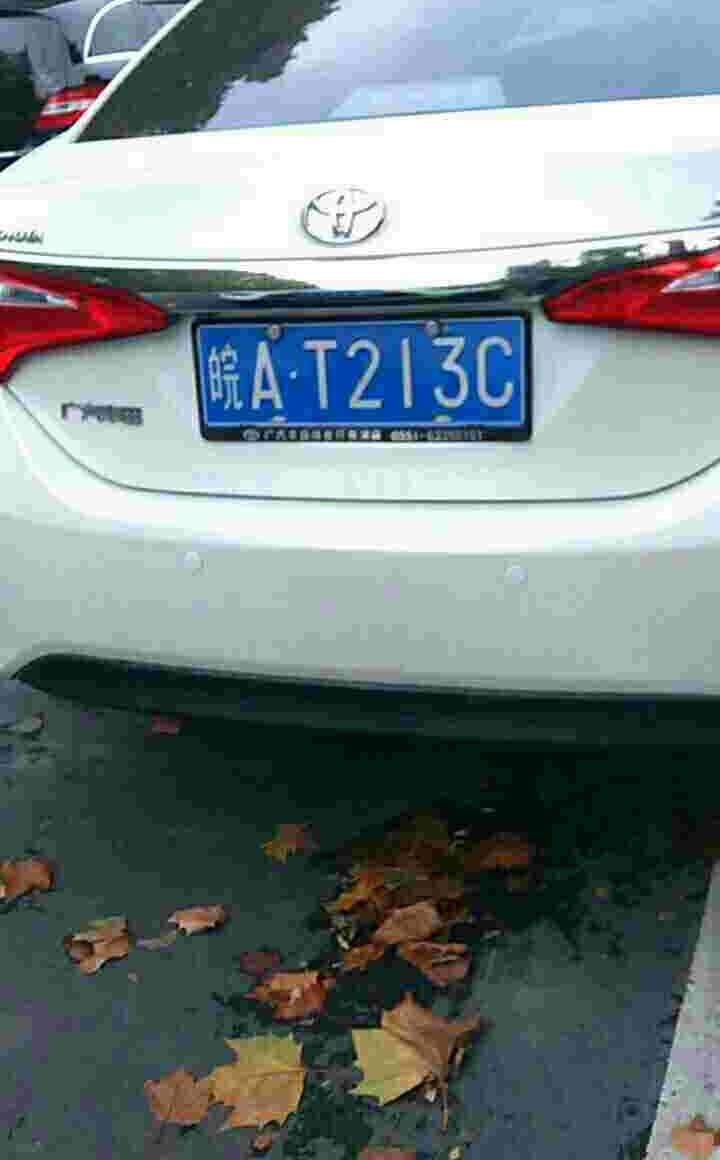license_plate: (185, 319, 528, 438)
